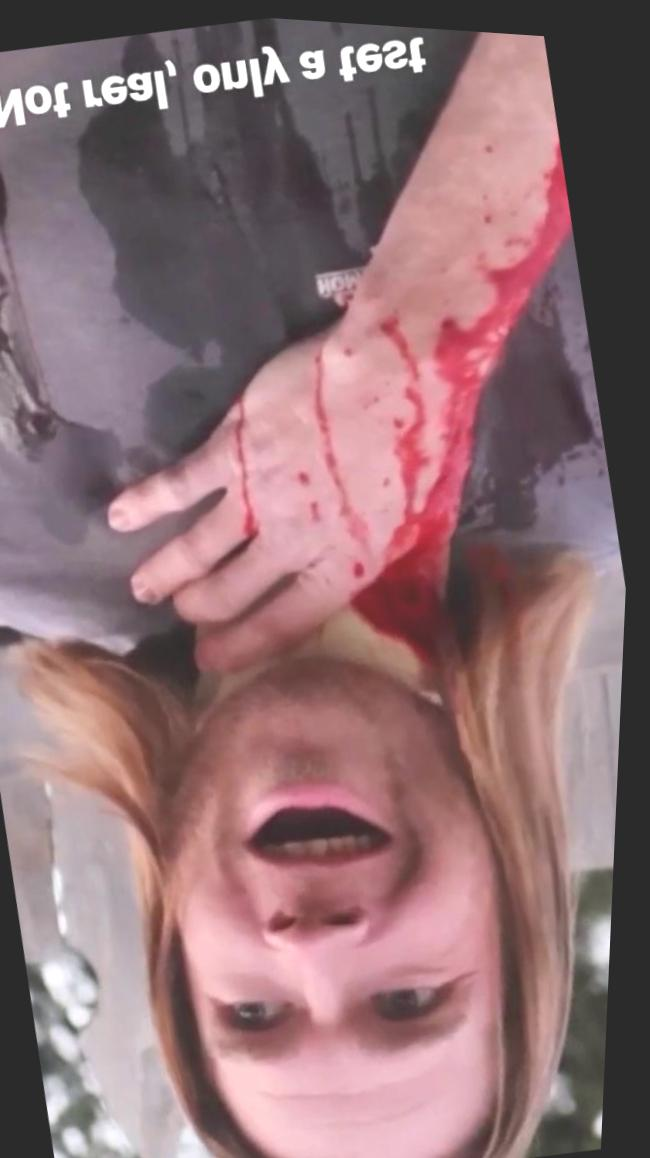Fire: (356, 130, 598, 655), (298, 327, 372, 553), (207, 379, 264, 537), (354, 552, 373, 575)
